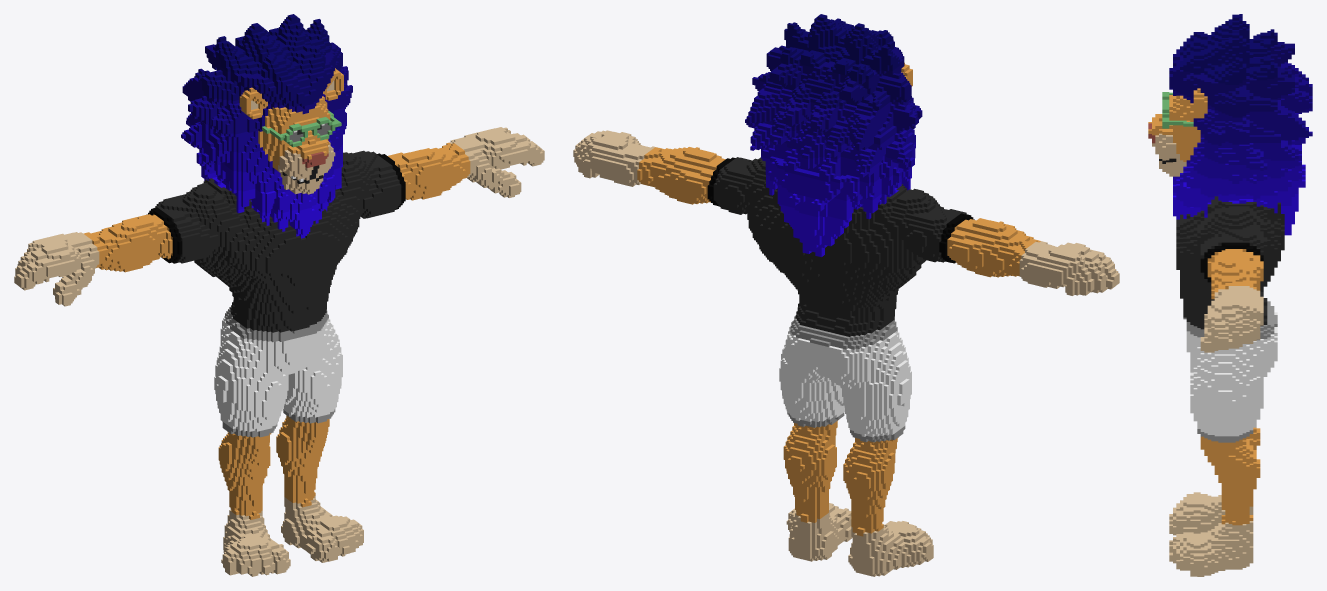
The model's file is 397-CdR0w36z.glb.
3 renders of one model, left to right at view 1: azimuth 30°, elevation 25°; view 2: azimuth 150°, elevation 25°; view 3: azimuth 270°, elevation 25°, orthographic. The views are drawn at different scales.
Parts seen in each view (by area): view 1: smirk; view 2: smirk; view 3: smirk.
Boxes of the visible parts, x1=… form: smirk: x1=14, y1=14, x2=544, y2=576; smirk: x1=573, y1=14, x2=1119, y2=576; smirk: x1=1148, y1=14, x2=1312, y2=576.
Size of the model in its own units: 17.2 by 16.5 by 4.7.
5 materials, 5 textured.
